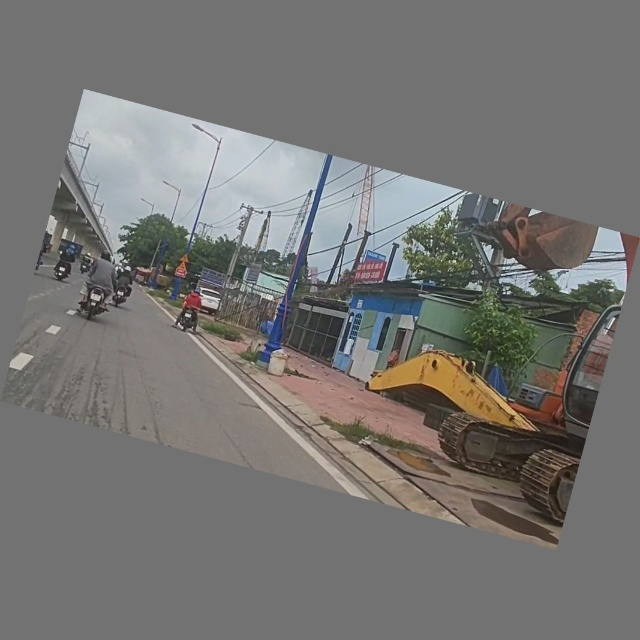W.203c: (179, 253, 191, 264)
W.245a: (176, 261, 189, 273)
